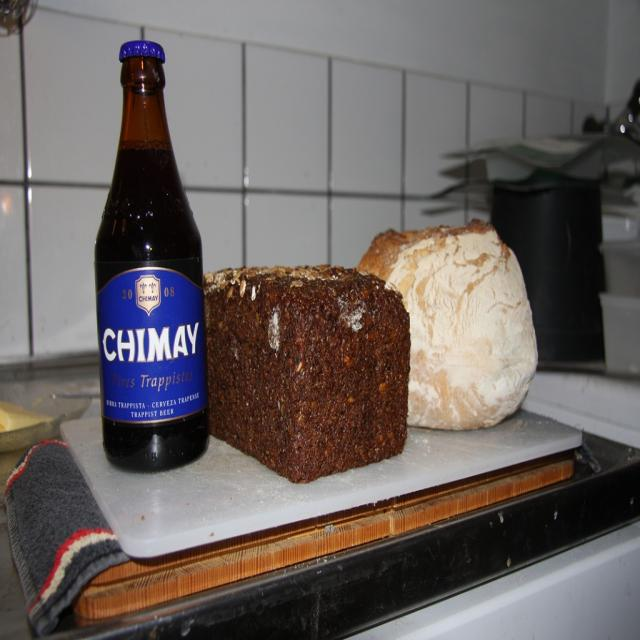chimay: (97, 267, 211, 425)
